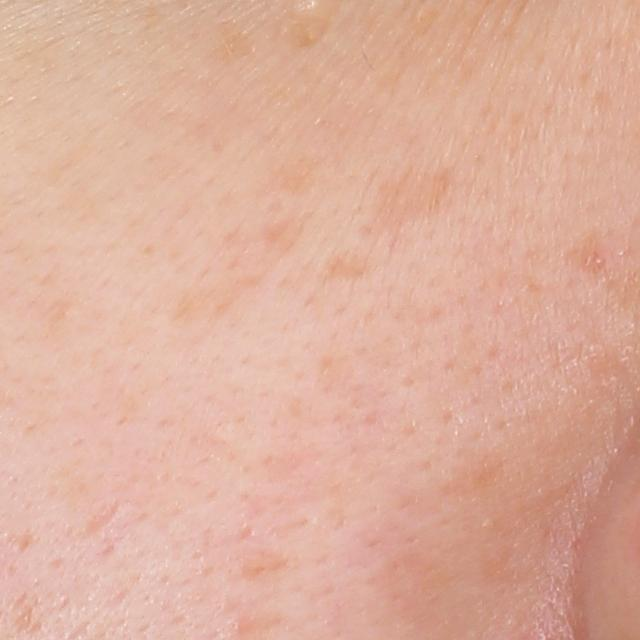atrophic_scar: (79, 496, 124, 538)
melasma: (348, 164, 464, 236), (170, 268, 258, 348), (262, 150, 331, 202), (209, 12, 265, 64)
